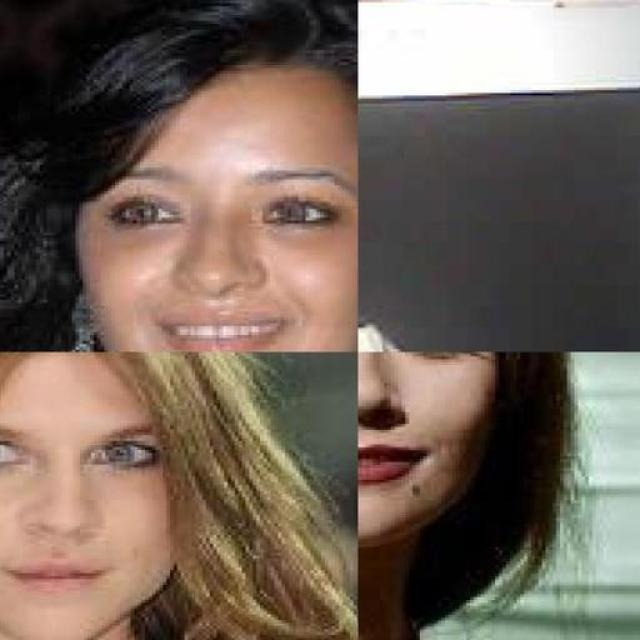bareface: (65, 77, 345, 348)
